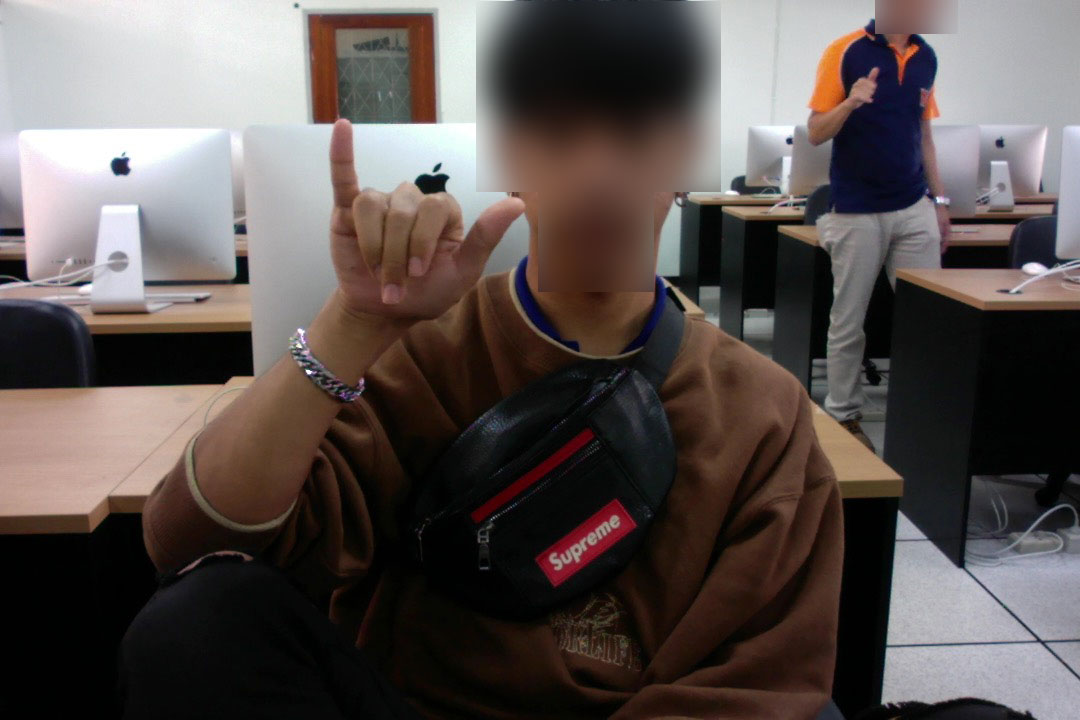yor: (319, 111, 529, 356)
